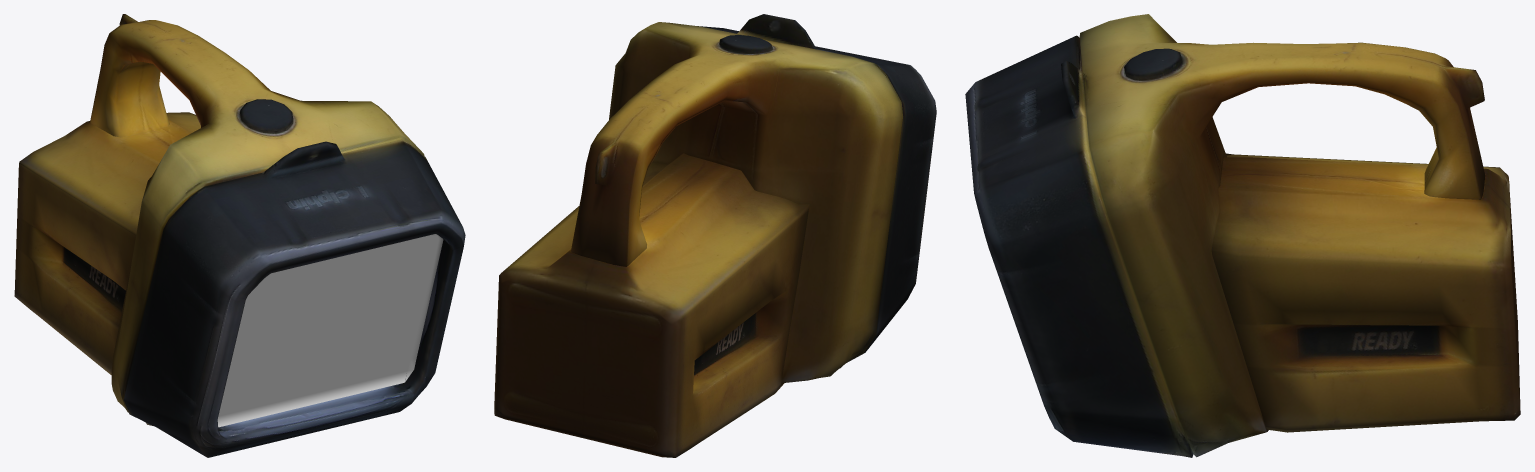
The model's file is Torch_LOWPOLY_FBX.fbx.
3 renders of one model, left to right at view 1: azimuth 30°, elevation 25°; view 2: azimuth 150°, elevation 25°; view 3: azimuth 270°, elevation 25°, orthographic. The views are drawn at different scales.
Parts seen in each view (by area): view 1: Model; view 2: Model; view 3: Model.
Part boxes in pixels (box(x1,y1,x2,y2)): Model: box(14, 14, 465, 457); Model: box(494, 14, 936, 457); Model: box(965, 14, 1520, 457).
Size of the model in its own units: 102 by 111 by 159.
Materials: 2 (1 with a texture image).
